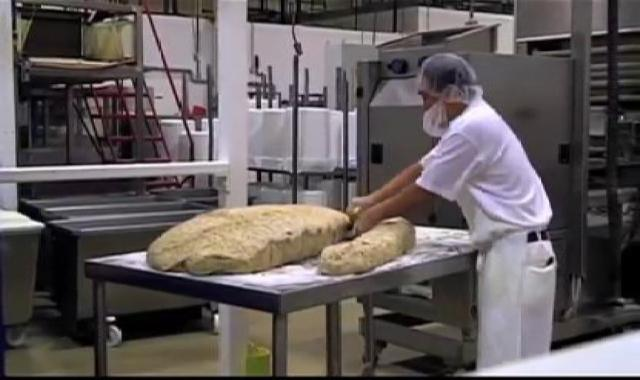hairnet: (407, 49, 492, 111)
